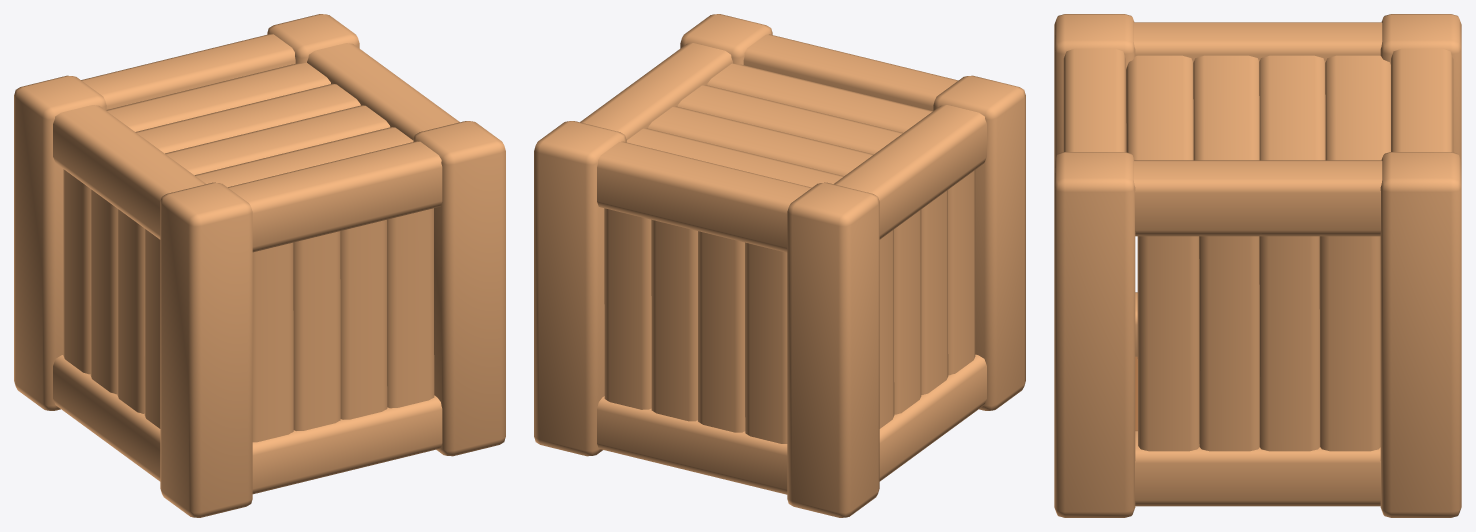
The model's file is Wooden_Box_02.fbx.
The picture shows the model from 3 angles, left to right: view 1: azimuth 30°, elevation 25°; view 2: azimuth 150°, elevation 25°; view 3: azimuth 270°, elevation 25°; orthographic projection. The views are drawn at different scales.
Parts seen in each view (by area): view 1: Wooden_Box_02; view 2: Wooden_Box_02; view 3: Wooden_Box_02.
Part boxes in pixels (x1=…): Wooden_Box_02: x1=14, y1=14, x2=505, y2=517; Wooden_Box_02: x1=534, y1=14, x2=1025, y2=517; Wooden_Box_02: x1=1054, y1=14, x2=1461, y2=517.
Size of the model in its own units: 604 by 554 by 604.
